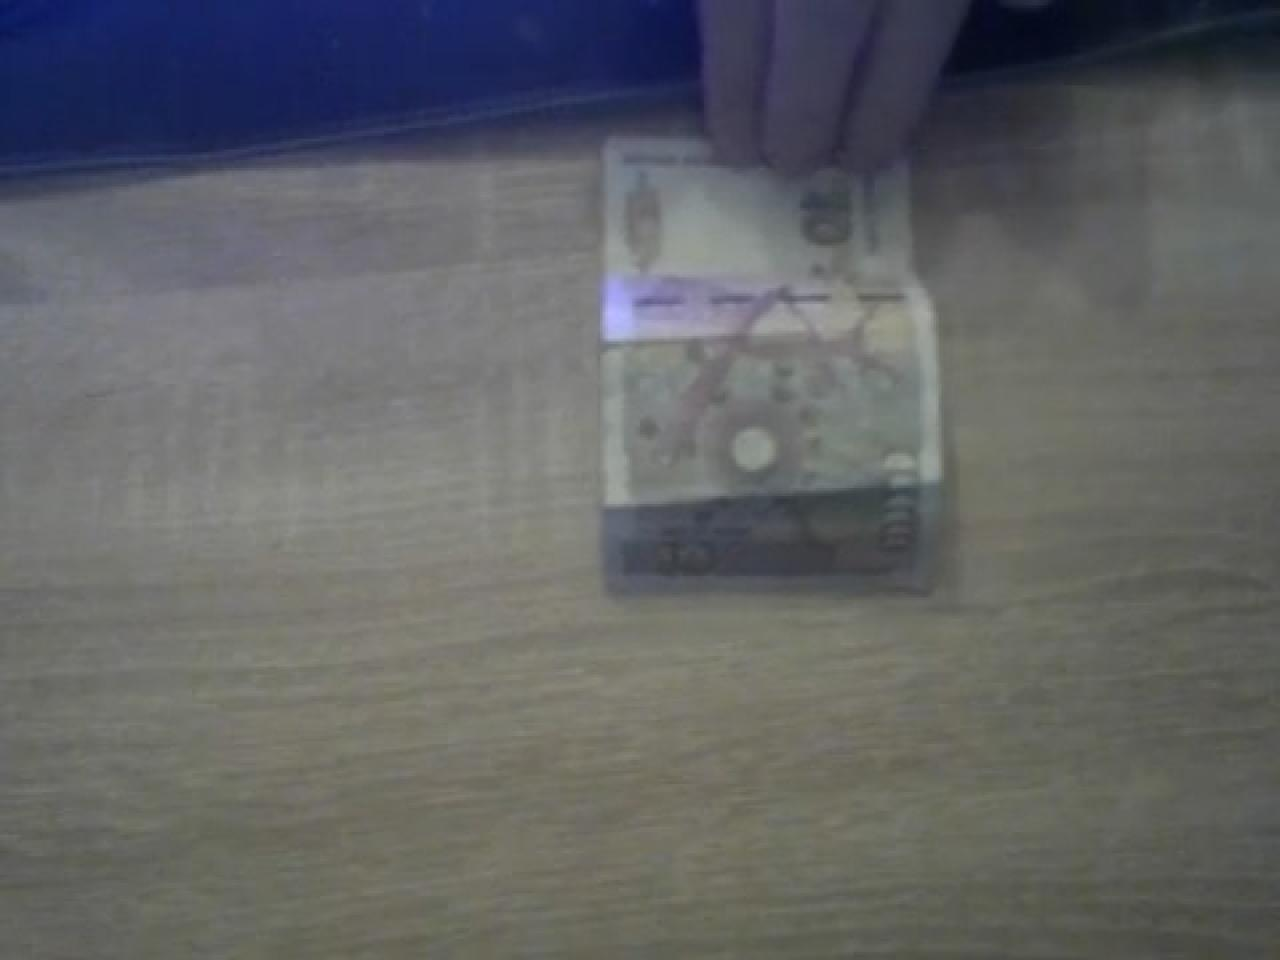10leva: (595, 133, 949, 595)
